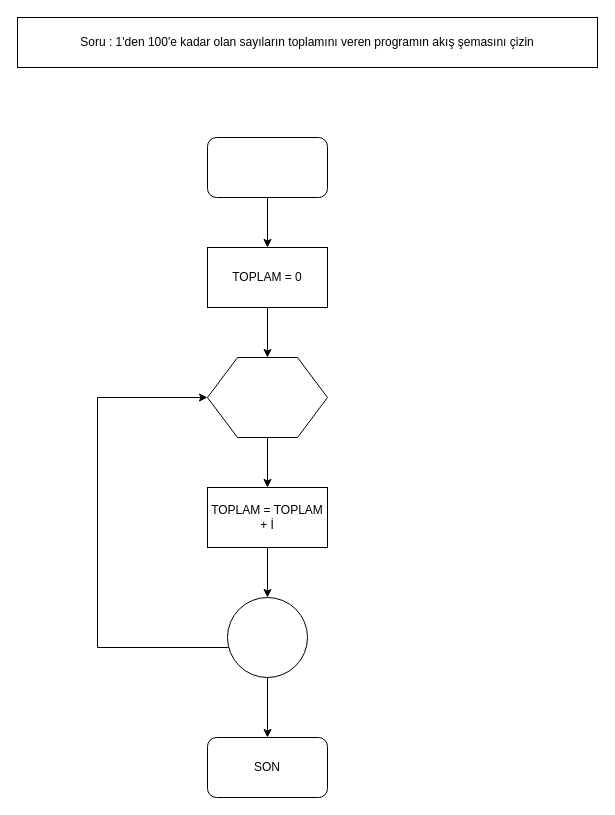
This 615x815 diagram has some shape labels left out. The shapes that lost their labels are listed below. From the top down, each one's centre as x and y in pixels, then its label:
At pixel 267 167: "BAŞLA".
At pixel 267 397: "i=1, i <= 100, 1".
